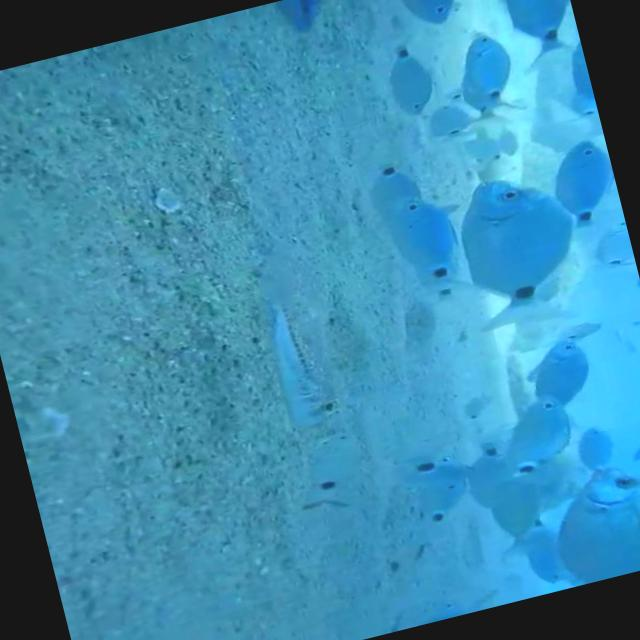Balon Baligi: (256, 268, 342, 429)
